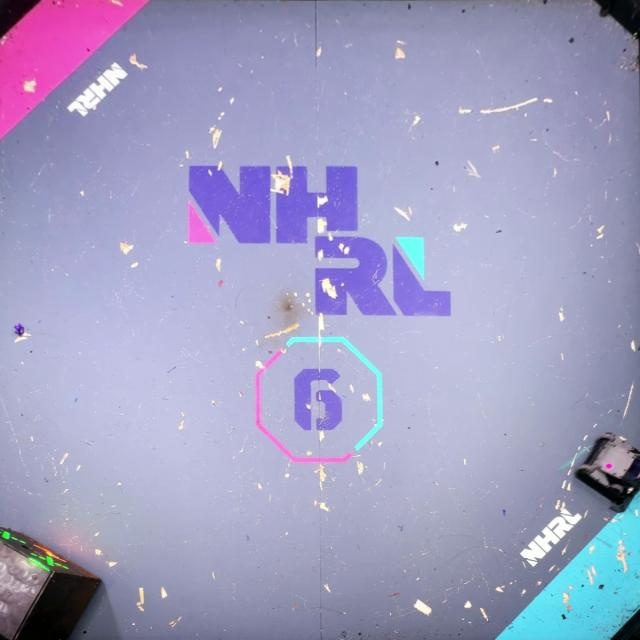housebot: (0, 525, 104, 640)
robot: (576, 434, 640, 509)
